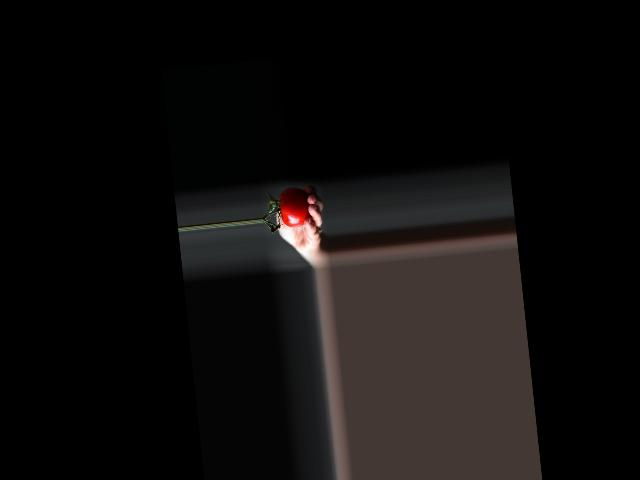tomato: (277, 185, 312, 228)
